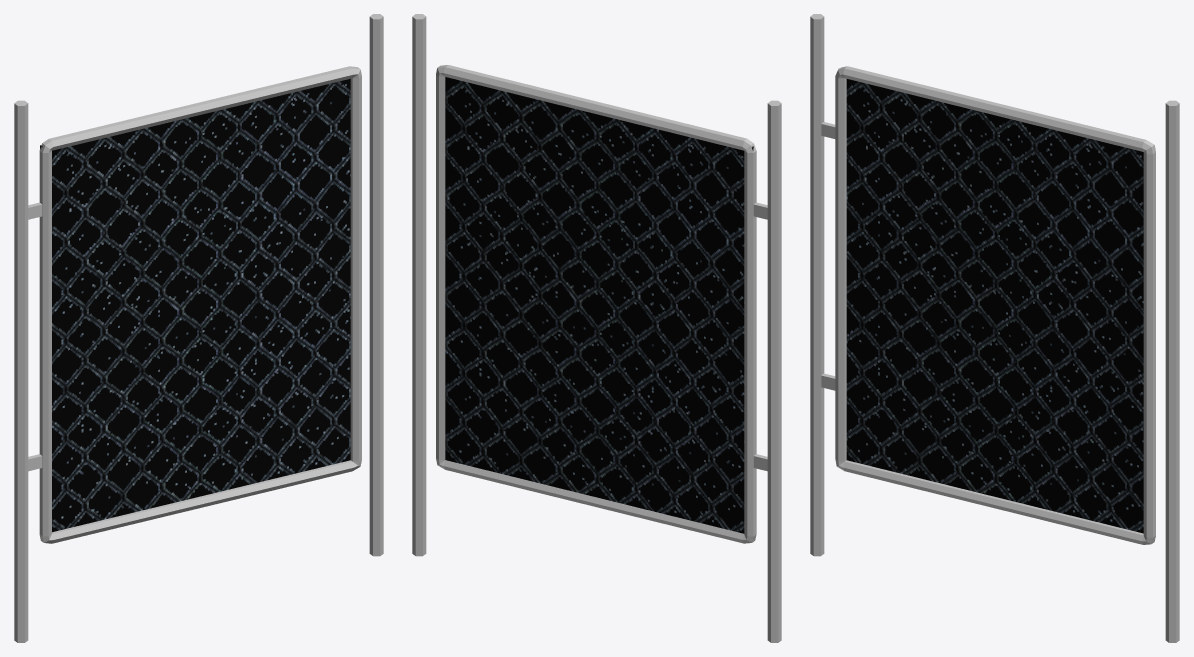
The model's file is GoodGate.fbx.
3 views of the same model, side by side, from view 1: azimuth 30°, elevation 25°; view 2: azimuth 150°, elevation 25°; view 3: azimuth 330°, elevation 25° (orthographic).
Visible parts, largest first — view 1: gate, frame; view 2: gate, frame; view 3: gate, frame.
Part boxes in pixels (x1=…): gate: x1=39, y1=66, x2=361, y2=543; frame: x1=14, y1=14, x2=383, y2=642; gate: x1=436, y1=65, x2=756, y2=543; frame: x1=412, y1=14, x2=781, y2=642; gate: x1=835, y1=66, x2=1155, y2=544; frame: x1=810, y1=14, x2=1179, y2=642.
Bounding box in the file's own units: 119 × 167 × 4.3.
